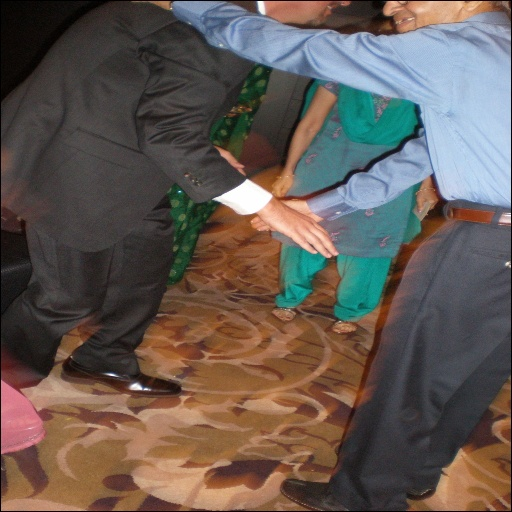hand: (263, 198, 336, 258), (248, 199, 322, 232), (413, 184, 442, 212), (219, 147, 245, 175), (269, 174, 295, 198)
